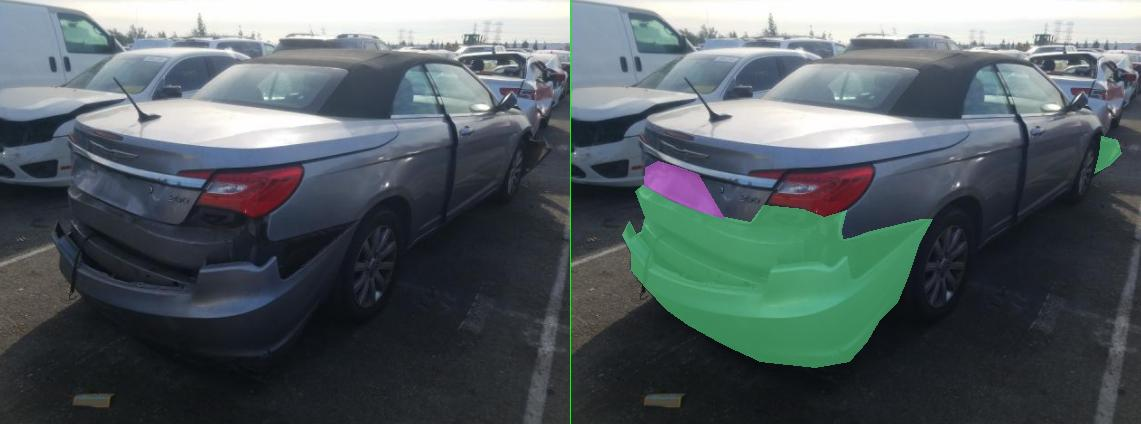Broken part: (102, 185, 723, 367), (1047, 136, 1101, 173)
Dent: (146, 161, 306, 218)
